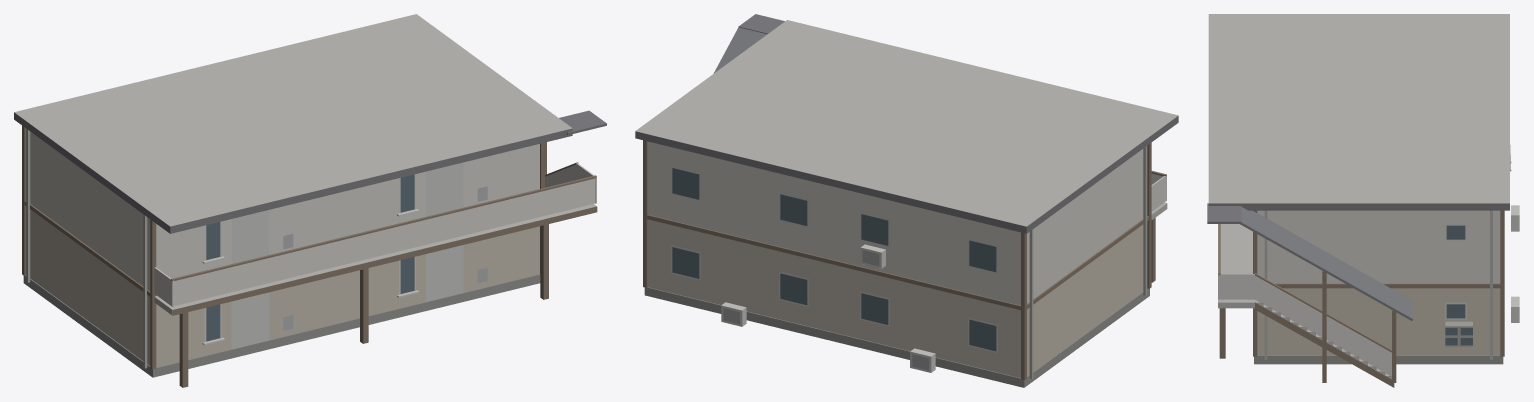
Rendered from apartment_A.glb.
3 renders of one model, left to right at view 1: azimuth 30°, elevation 25°; view 2: azimuth 150°, elevation 25°; view 3: azimuth 270°, elevation 25°, orthographic. The views are drawn at different scales.
Parts seen in each view (by area): view 1: Static; view 2: Static; view 3: Static.
Boxes of the visible parts, x1=… form: Static: x1=14, y1=14, x2=606, y2=387; Static: x1=635, y1=14, x2=1178, y2=387; Static: x1=1207, y1=14, x2=1519, y2=387.
Bounding box in the file's own units: 15.7 × 6.09 × 10.12.
